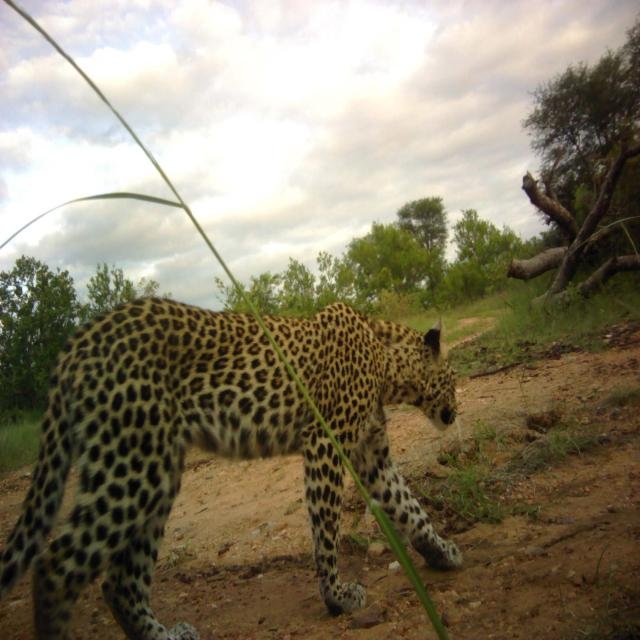Leopard: (8, 282, 469, 632)
